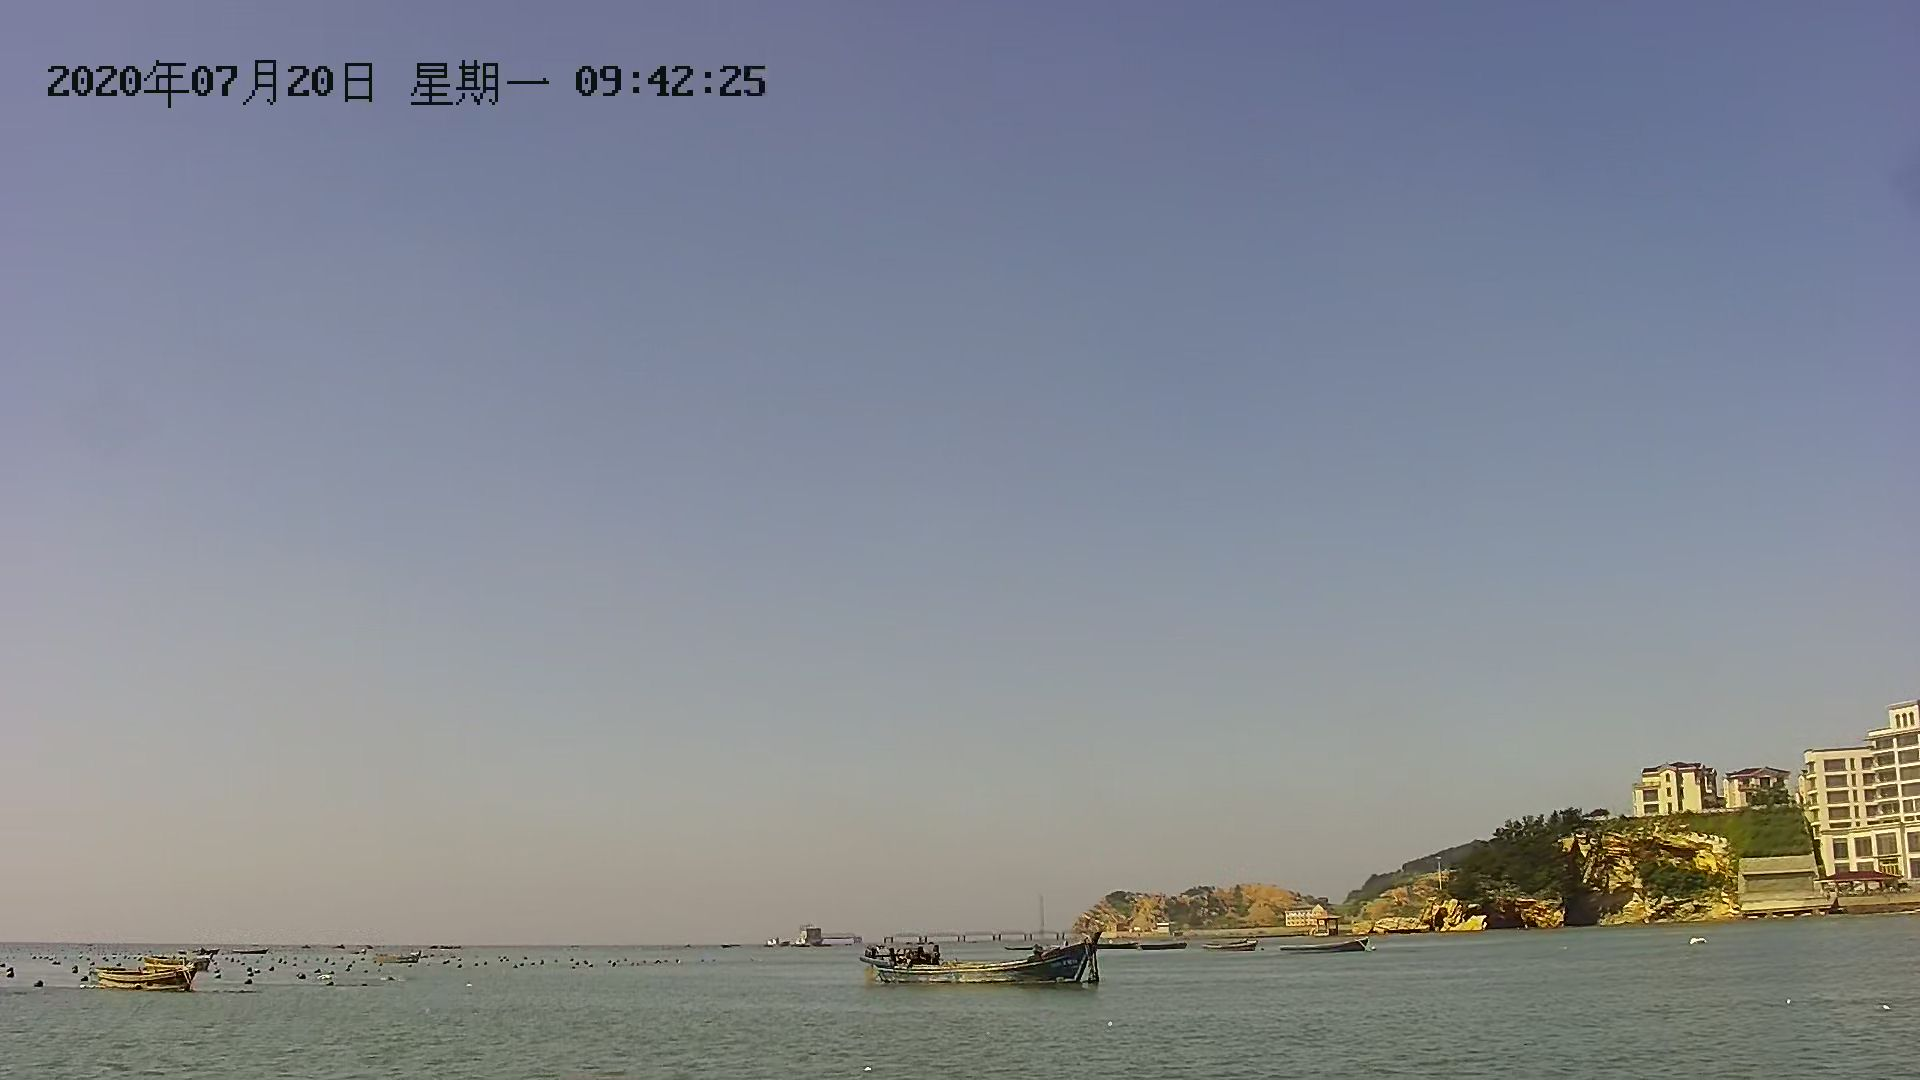boat: (862, 940, 1102, 997), (92, 955, 200, 998), (1276, 938, 1375, 956), (365, 949, 421, 971), (1200, 936, 1257, 953)
